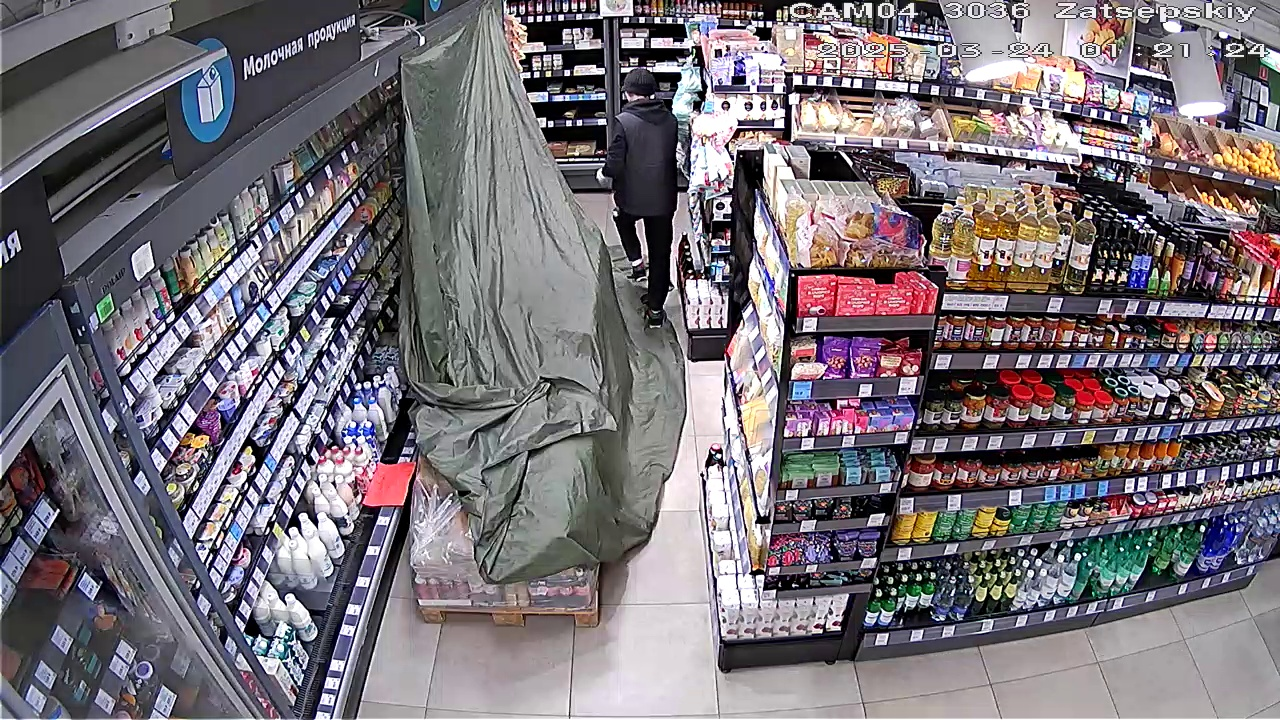Human: (583, 59, 680, 321)
dome: (385, 25, 692, 571)
